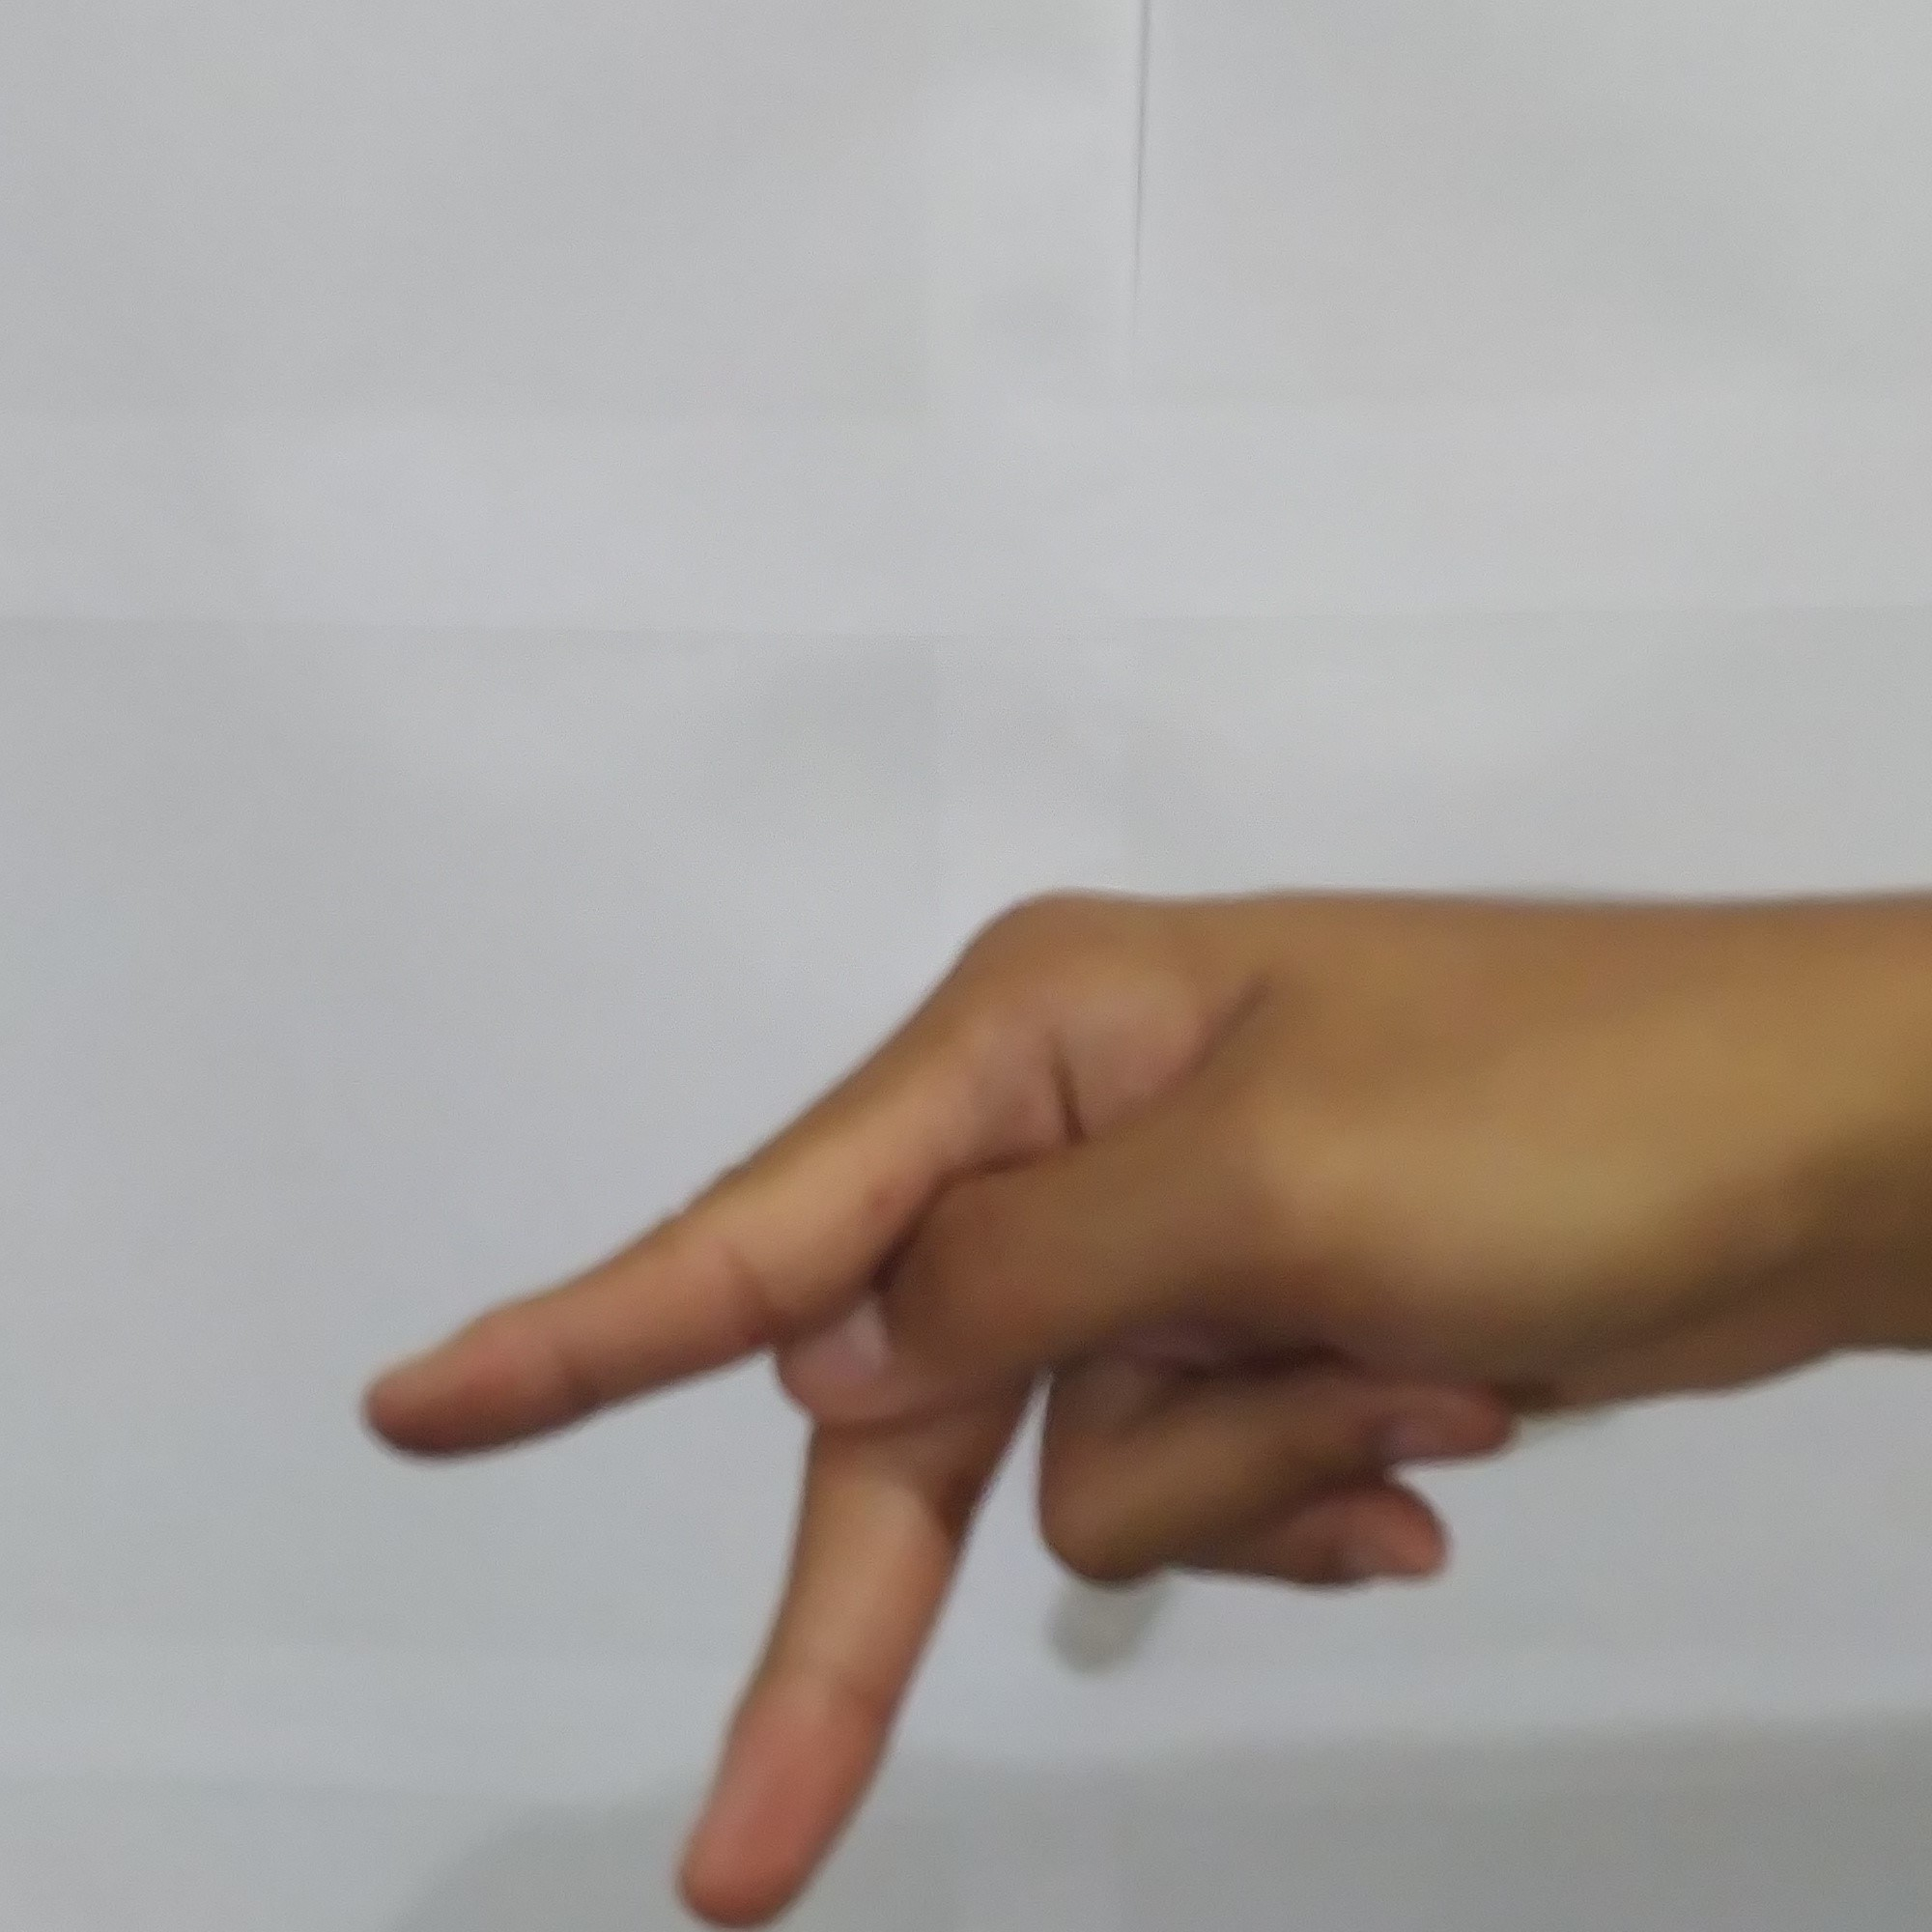P: (322, 858, 1835, 1913)
